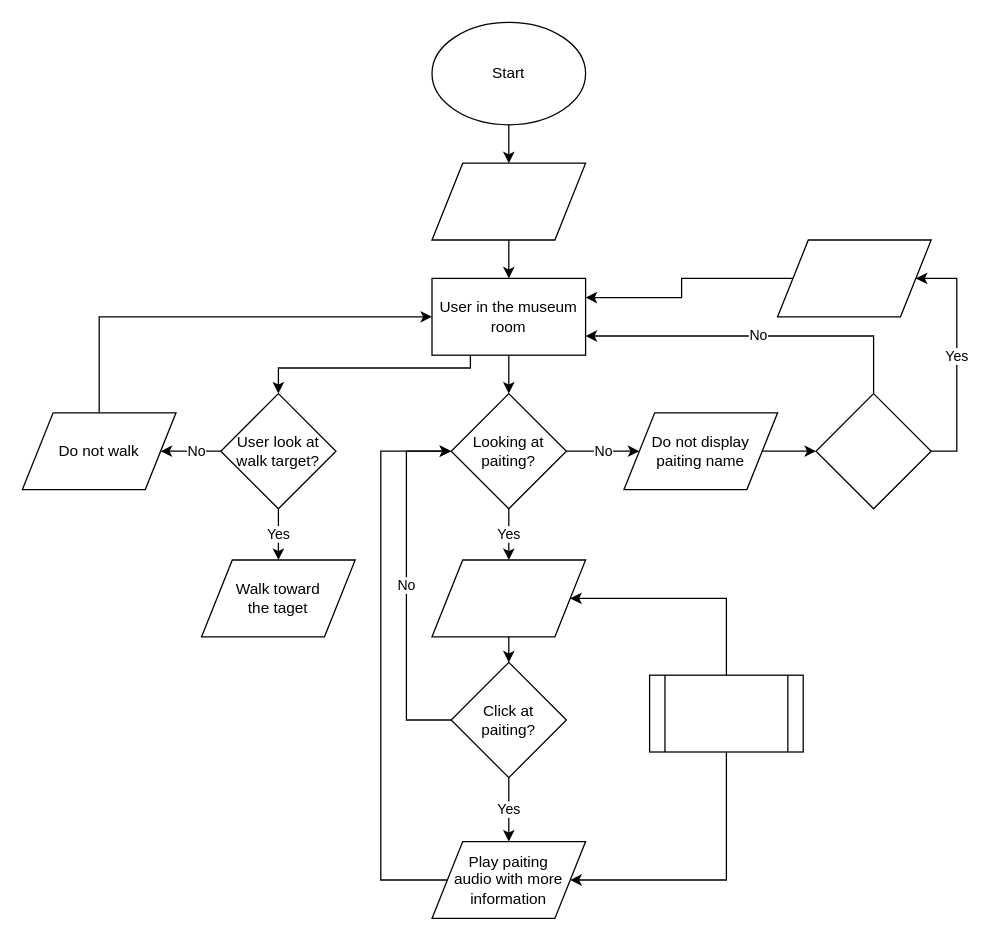
This 991x941 diagram has some shape labels left out. Each missing label, with the box of its shape:
Dsiplay paiting name: (431, 559, 586, 637)
Get painting data: (648, 674, 803, 752)
Is audio playing?: (815, 392, 931, 509)
Stops audio: (776, 239, 931, 317)
Welcome message plays: (431, 162, 586, 240)
